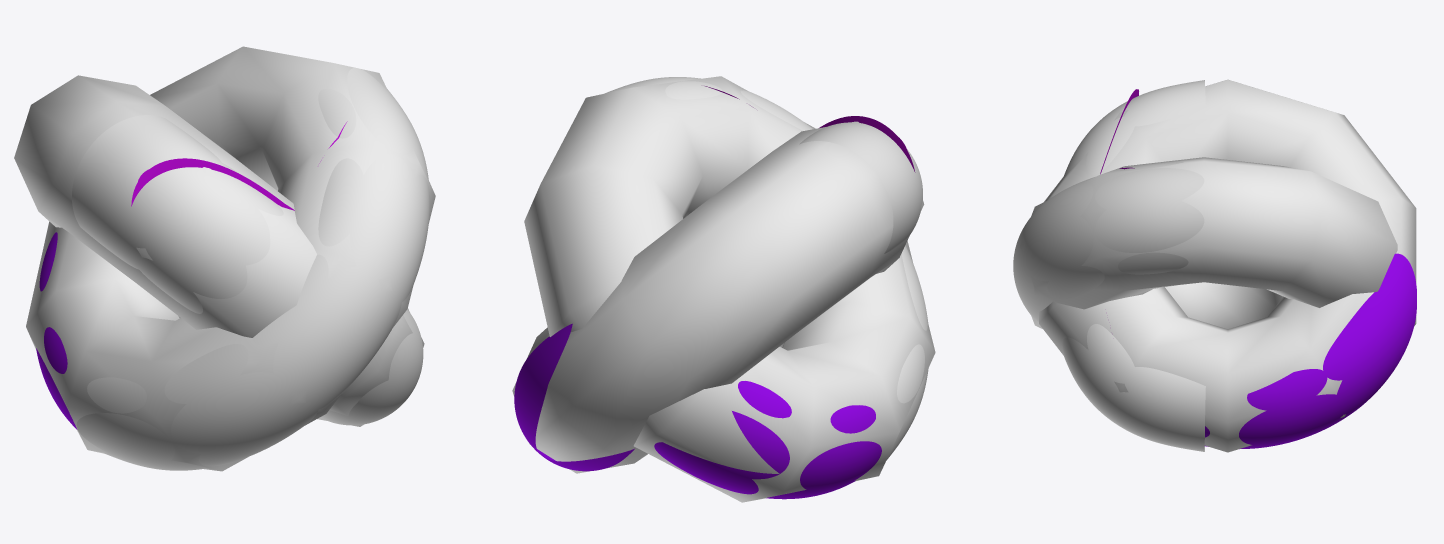
File: knit (1).fbx
3 renders of one model, left to right at view 1: azimuth 30°, elevation 25°; view 2: azimuth 150°, elevation 25°; view 3: azimuth 270°, elevation 25°, orthographic. The views are drawn at different scales.
Parts seen in each view (by area): view 1: hp.001, lp, hp, lp.001; view 2: lp, hp, hp.001, lp.001; view 3: lp, hp.001, hp.
Boxes of the visible parts, x1,y1,x2,y2 form: hp.001: [72, 68, 429, 470]; lp: [14, 46, 435, 471]; hp: [36, 232, 77, 429]; lp.001: [131, 121, 347, 210]; lp: [512, 76, 935, 502]; hp: [514, 323, 881, 499]; hp.001: [605, 77, 928, 460]; lp.001: [705, 86, 915, 172]; lp: [1020, 79, 1416, 452]; hp.001: [1013, 80, 1205, 451]; hp: [1205, 253, 1416, 449].
Size of the model in its own units: 297 by 291 by 277.
